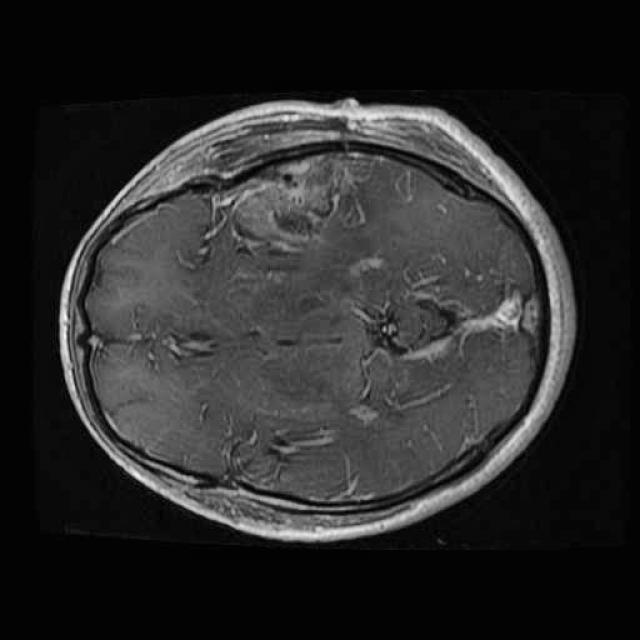Non-Tumor: (206, 125, 400, 266)
